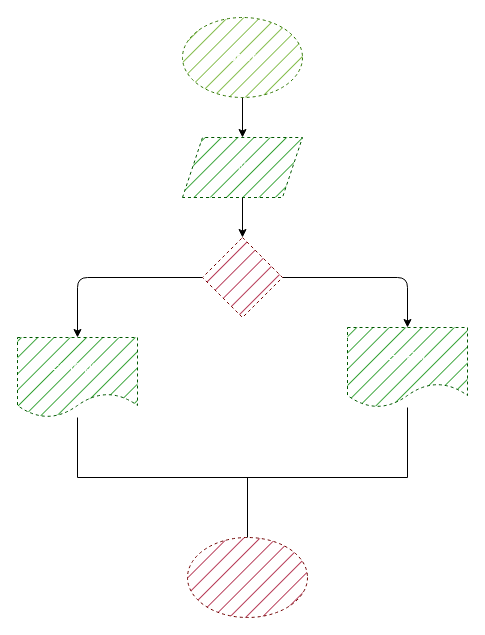
The diagram is 485 pixels wide and 635 high, and some of its shapes have lost their labels. Here are the shapes that lost their labels. From the top down, the centre of each, then its label:
(x=242, y=277): N % 2 == 0
(x=247, y=577): Fin
